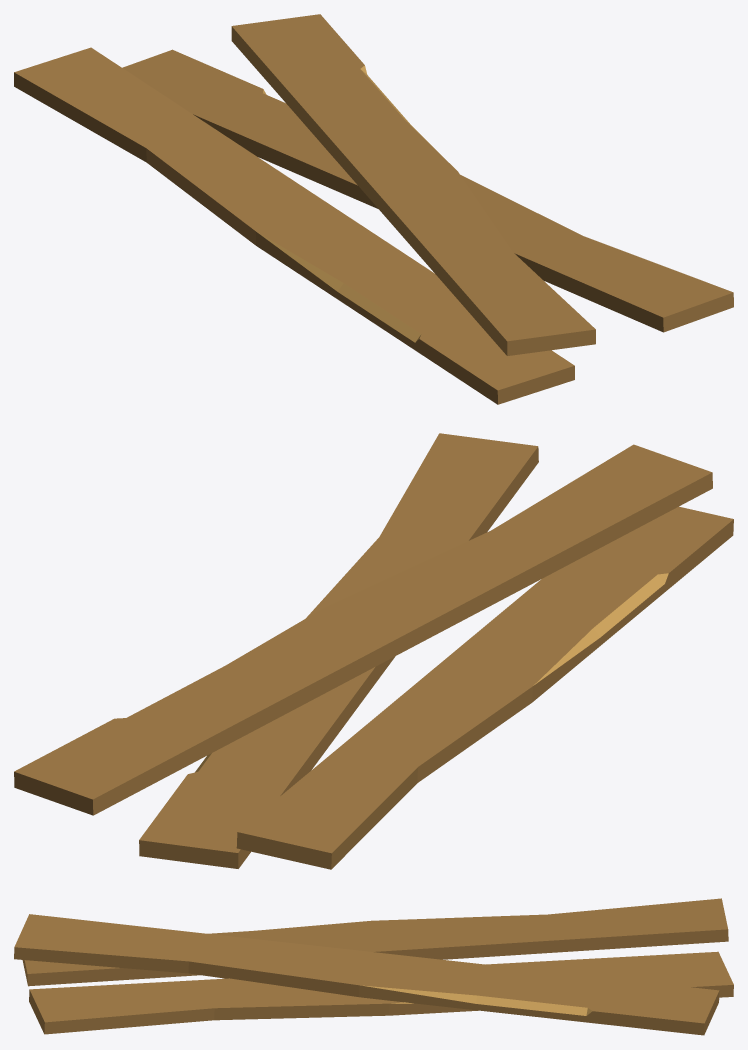
Rendered from prop-woodplanks.glb.
3 views of the same model, one above another, from view 1: azimuth 30°, elevation 25°; view 2: azimuth 150°, elevation 25°; view 3: azimuth 270°, elevation 25° (orthographic). The views are drawn at different scales.
Parts seen in each view (by area): view 1: WoodPlanks; view 2: WoodPlanks; view 3: WoodPlanks.
Boxes of the visible parts, <box> form: WoodPlanks: <box>14,14,733,404</box>; WoodPlanks: <box>14,433,733,869</box>; WoodPlanks: <box>14,898,733,1035</box>.
Size of the model in its own units: 0.7163 by 0.1245 by 1.73.
